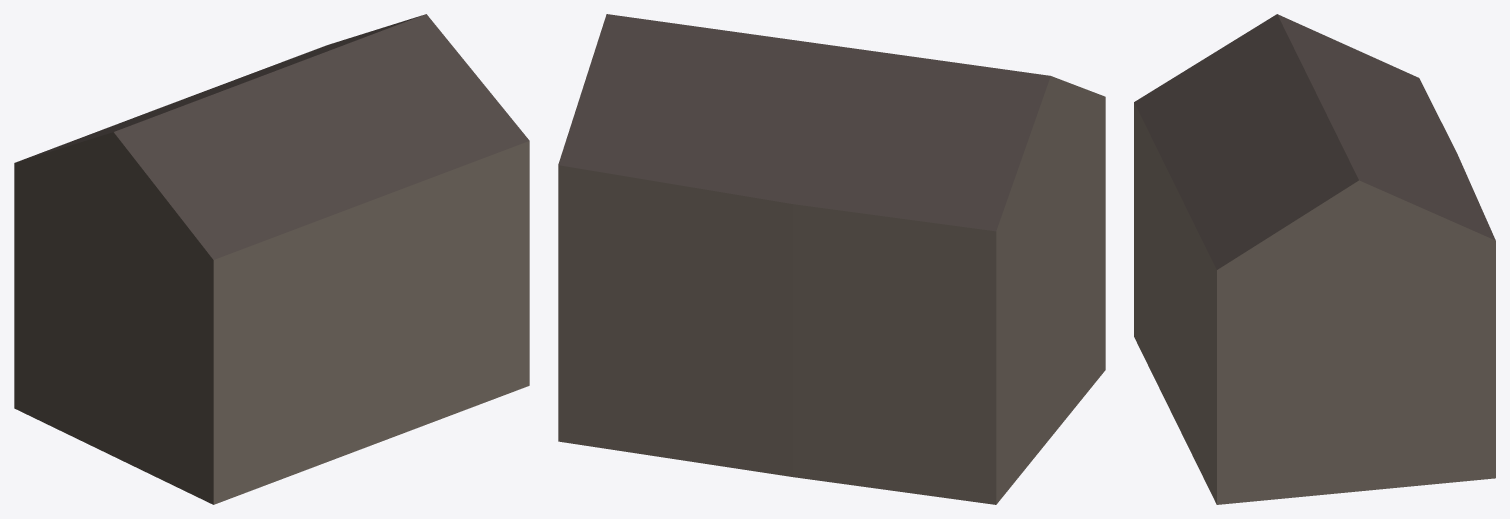
The picture shows the model from 3 angles, left to right: view 1: azimuth 30°, elevation 25°; view 2: azimuth 150°, elevation 25°; view 3: azimuth 270°, elevation 25°; orthographic projection. The views are drawn at different scales.
Parts seen in each view (by area): view 1: HP-w1516161907; view 2: HP-w1516161907; view 3: HP-w1516161907.
Boxes of the visible parts, x1,y1,x2,y2 form: HP-w1516161907: [14, 14, 529, 504]; HP-w1516161907: [558, 14, 1105, 504]; HP-w1516161907: [1134, 14, 1495, 504].
Size of the model in its own units: 10.51 by 7.95 by 8.38.
